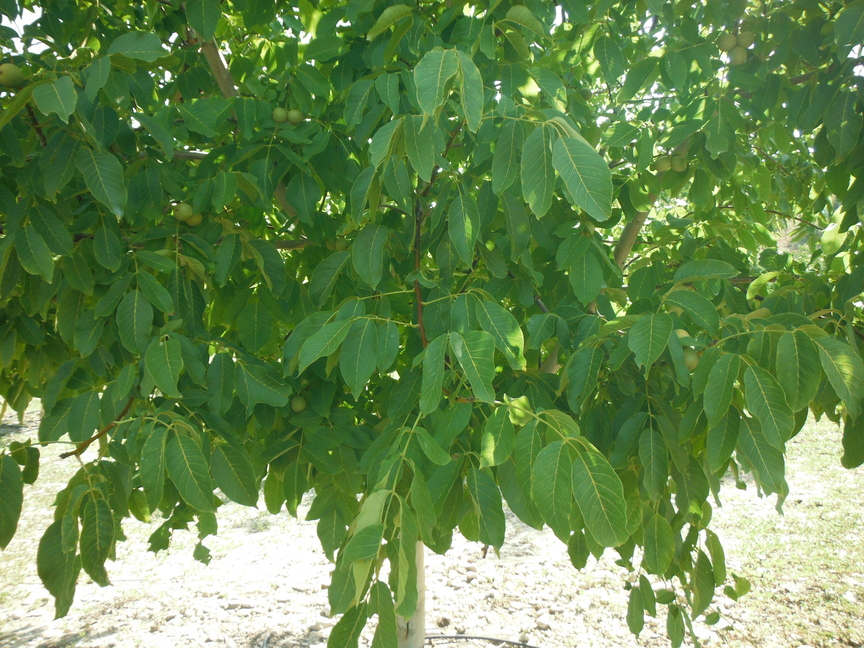walnut: (0, 59, 27, 91), (677, 345, 700, 375), (712, 31, 740, 54), (170, 200, 195, 223), (267, 103, 289, 129), (727, 45, 750, 69), (651, 151, 672, 176), (735, 28, 760, 49), (576, 216, 596, 241), (182, 208, 204, 229), (670, 325, 695, 343), (669, 153, 690, 174), (288, 393, 308, 415), (286, 107, 306, 127), (335, 236, 351, 254), (324, 234, 339, 253), (577, 86, 596, 101)
